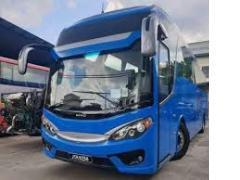bus: (32, 2, 204, 172)
